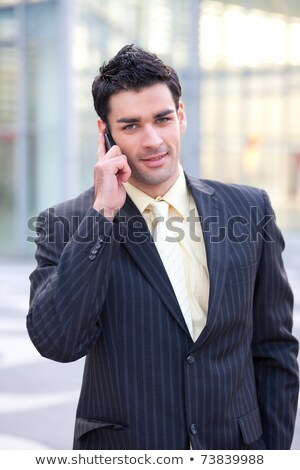phone: (92, 125, 133, 188)
talk: (90, 100, 183, 207)
